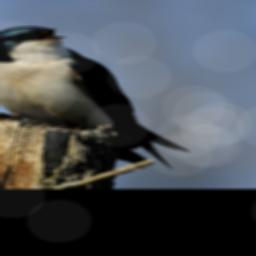Swallow: (0, 26, 191, 170)
